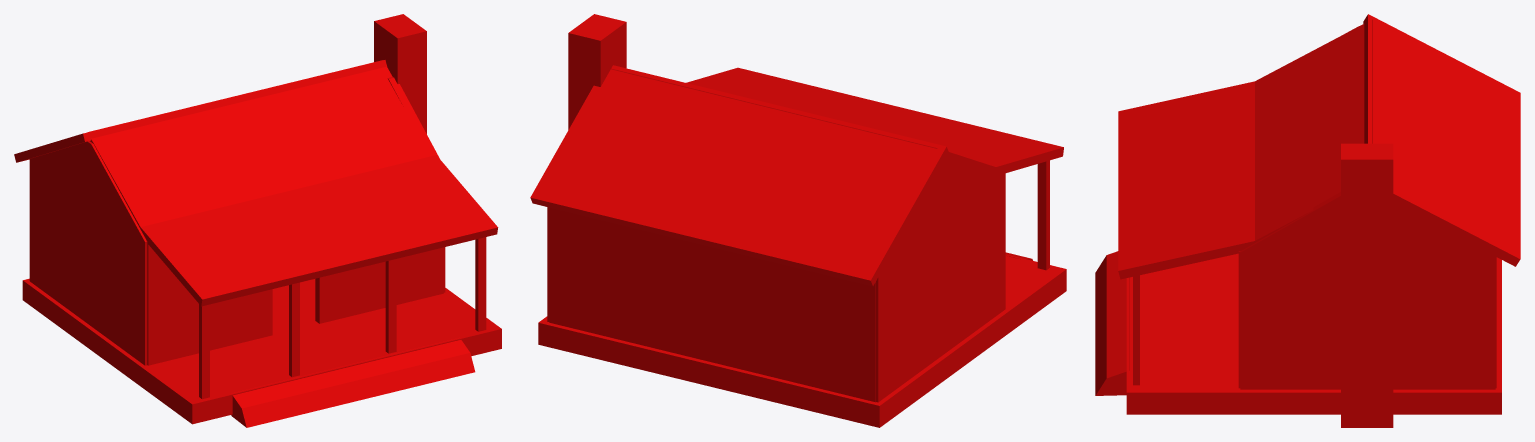
The model's file is SM_Bld_Cabin_01_Collision.fbx.
3 renders of one model, left to right at view 1: azimuth 30°, elevation 25°; view 2: azimuth 150°, elevation 25°; view 3: azimuth 270°, elevation 25°, orthographic. The views are drawn at different scales.
Visible parts, largest first — view 1: SM_Bld_Cabin_01_Collision; view 2: SM_Bld_Cabin_01_Collision; view 3: SM_Bld_Cabin_01_Collision.
Boxes of the visible parts, x1,y1,x2,y2 form: SM_Bld_Cabin_01_Collision: (14, 14, 501, 427); SM_Bld_Cabin_01_Collision: (530, 14, 1066, 427); SM_Bld_Cabin_01_Collision: (1095, 14, 1520, 427).
Size of the model in its own units: 846 by 596 by 849.
